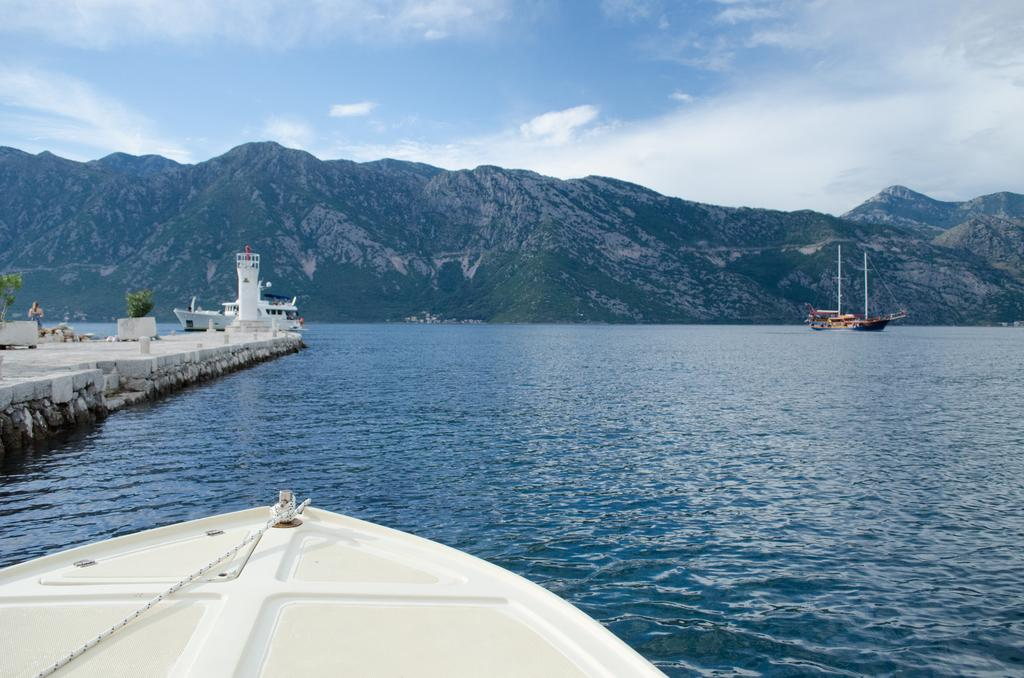PassengerShip: (172, 288, 300, 328), (804, 311, 904, 332)
